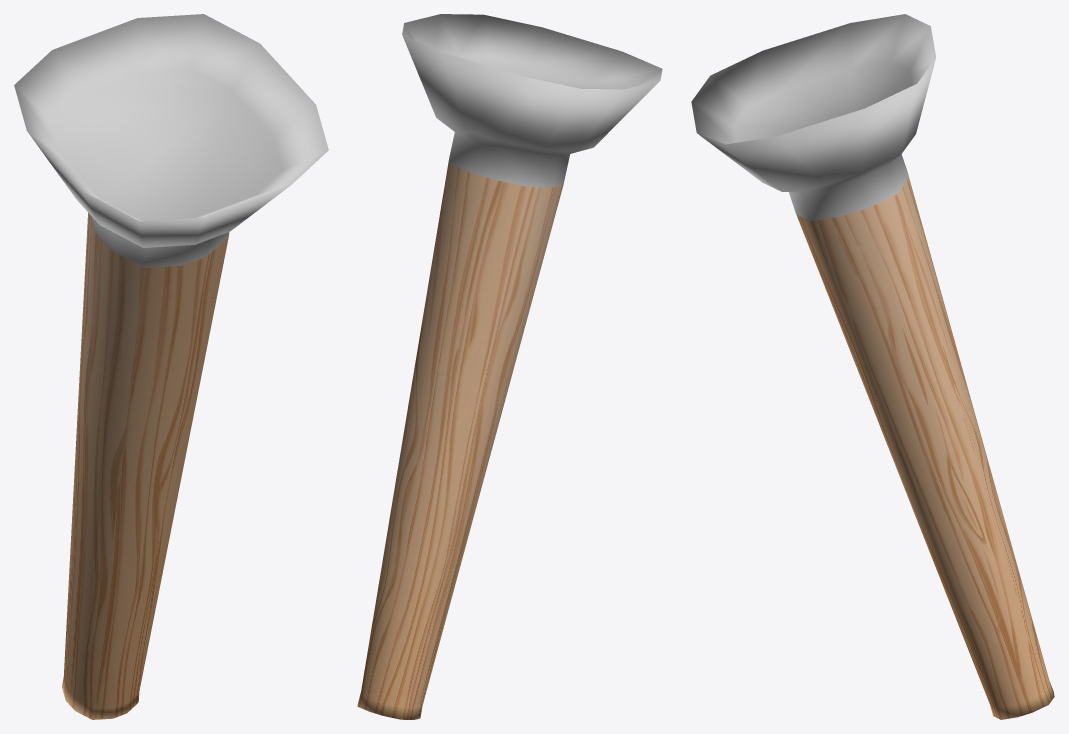
File: Torch.fbx
The picture shows the model from 3 angles, left to right: view 1: azimuth 30°, elevation 25°; view 2: azimuth 150°, elevation 25°; view 3: azimuth 270°, elevation 25°; orthographic projection. The views are drawn at different scales.
Parts seen in each view (by area): view 1: Cube.015; view 2: Cube.015; view 3: Cube.015.
Boxes of the visible parts, bbox=[...] form: Cube.015: bbox=[14, 14, 328, 719]; Cube.015: bbox=[357, 14, 662, 719]; Cube.015: bbox=[691, 14, 1054, 719].
Bounding box in the file's own units: 10.47 × 29.19 × 14.77.
